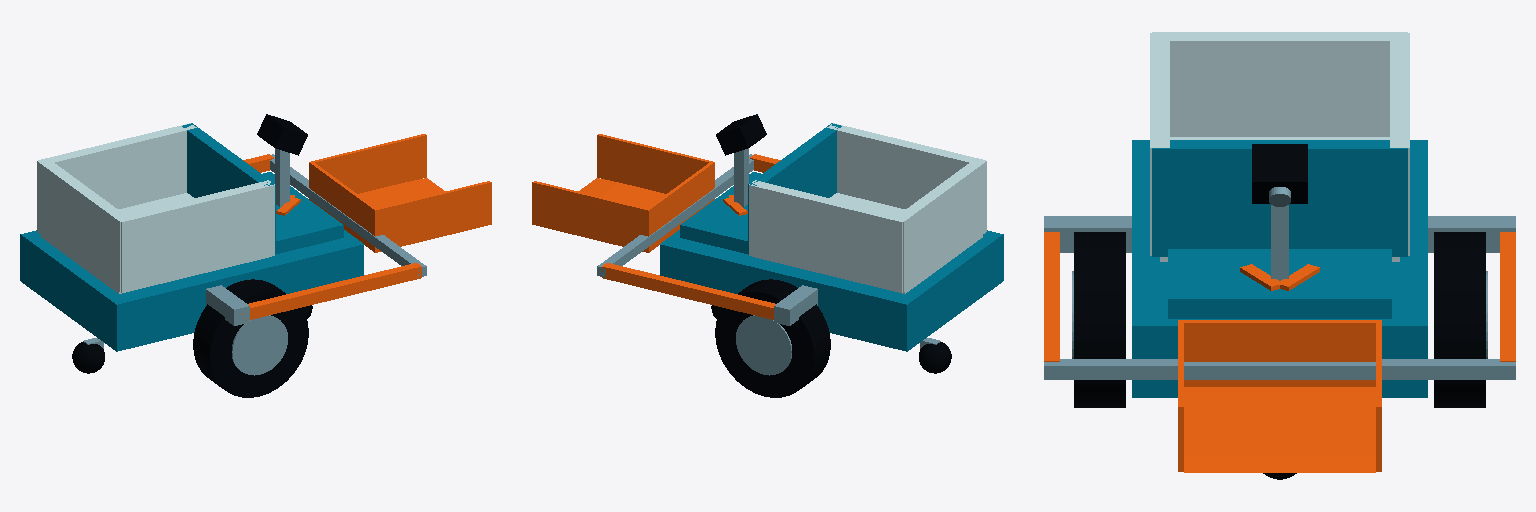
robot.urdf — collector_beveled_proposal:
<?xml version='1.0' encoding='utf-8'?>
<robot name="collector_beveled_proposal">
  <material name="body">
    <color rgba="0.03 0.53 0.65 1" />
  </material>
  <material name="basket">
    <color rgba="0.80 0.91 0.93 1" />
  </material>
  <material name="orange">
    <color rgba="1.0 0.44 0.10 1" />
  </material>
  <material name="rubber">
    <color rgba="0.045 0.06 0.08 1" />
  </material>
  <material name="hub">
    <color rgba="0.50 0.65 0.70 1" />
  </material>
  <link name="base_link">
    <inertial>
      <origin xyz="-0.025 0 0" />
      <mass value="7.0" />
      <inertia ixx="0.087" ixy="0" ixz="0" iyy="0.184" iyz="0" izz="0.256" />
    </inertial>
    <visual name="chassis">
      <origin xyz="0 0 -0.025" />
      <geometry>
        <box size="0.55 0.37 0.10" />
      </geometry>
      <material name="body" />
    </visual>
    <collision name="chassis_collision">
      <origin xyz="0 0 -0.025" />
      <geometry>
        <box size="0.55 0.37 0.10" />
      </geometry>
    </collision>
    <visual name="basket_floor">
      <origin xyz="-0.08 0 0.04" />
      <geometry>
        <box size="0.34 0.30 0.025" />
      </geometry>
      <material name="basket" />
    </visual>
    <collision name="basket_floor_collision">
      <origin xyz="-0.08 0 0.04" />
      <geometry>
        <box size="0.34 0.30 0.025" />
      </geometry>
    </collision>
    <visual name="basket_back">
      <origin xyz="-0.24 0 0.11" />
      <geometry>
        <box size="0.025 0.32 0.15" />
      </geometry>
      <material name="basket" />
    </visual>
    <collision name="basket_back_collision">
      <origin xyz="-0.24 0 0.11" />
      <geometry>
        <box size="0.025 0.32 0.15" />
      </geometry>
    </collision>
    <visual name="basket_left">
      <origin xyz="-0.08 0.15 0.11" />
      <geometry>
        <box size="0.34 0.025 0.15" />
      </geometry>
      <material name="basket" />
    </visual>
    <collision name="basket_left_collision">
      <origin xyz="-0.08 0.15 0.11" />
      <geometry>
        <box size="0.34 0.025 0.15" />
      </geometry>
    </collision>
    <visual name="basket_right">
      <origin xyz="-0.08 -0.15 0.11" />
      <geometry>
        <box size="0.34 0.025 0.15" />
      </geometry>
      <material name="basket" />
    </visual>
    <collision name="basket_right_collision">
      <origin xyz="-0.08 -0.15 0.11" />
      <geometry>
        <box size="0.34 0.025 0.15" />
      </geometry>
    </collision>
    <visual name="basket_front">
      <origin xyz="0.08 0 0.11" />
      <geometry>
        <box size="0.025 0.32 0.15" />
      </geometry>
      <material name="body" />
    </visual>
    <collision name="basket_front_collision">
      <origin xyz="0.08 0 0.11" />
      <geometry>
        <box size="0.025 0.32 0.15" />
      </geometry>
    </collision>
    <visual name="arm_pivot_shaft">
      <origin xyz="-0.06 0 -0.005" />
      <geometry>
        <box size="0.035 0.59 0.035" />
      </geometry>
      <material name="hub" />
    </visual>
    <visual name="front_deck">
      <origin xyz="0.18 0 0.035" />
      <geometry>
        <box size="0.15 0.28 0.035" />
      </geometry>
      <material name="body" />
    </visual>
    <visual name="camera_stand">
      <origin xyz="0.20 0 0.11" />
      <geometry>
        <box size="0.022 0.022 0.14" />
      </geometry>
      <material name="hub" />
    </visual>
    <visual name="onboard_camera">
      <origin xyz="0.20 0 0.20" rpy="0 0.48869219 0" />
      <geometry>
        <box size="0.06 0.07 0.045" />
      </geometry>
      <material name="rubber" />
    </visual>
    <visual name="camera_lens">
      <origin xyz="0.231 0 0.1835" rpy="0 2.05948852 0" />
      <geometry>
        <cylinder radius="0.014" length="0.012" />
      </geometry>
      <material name="hub" />
    </visual>
    <visual name="direction_arrow_left">
      <origin xyz="0.20 0.023 0.057" rpy="0 0 -0.60" />
      <geometry>
        <box size="0.07 0.018 0.006" />
      </geometry>
      <material name="orange" />
    </visual>
    <visual name="direction_arrow_right">
      <origin xyz="0.20 -0.023 0.057" rpy="0 0 0.60" />
      <geometry>
        <box size="0.07 0.018 0.006" />
      </geometry>
      <material name="orange" />
    </visual>
  </link>
  <link name="left_wheel">
    <inertial>
      <mass value="0.35" />
      <inertia ixx="0.00118" ixy="0" ixz="0" iyy="0.00212" iyz="0" izz="0.00118" />
    </inertial>
    <visual>
      <origin rpy="1.57079632679 0 0" />
      <geometry>
        <cylinder radius="0.11" length="0.065" />
      </geometry>
      <material name="rubber" />
    </visual>
    <visual>
      <origin xyz="0 0.034 0" rpy="1.57079632679 0 0" />
      <geometry>
        <cylinder radius="0.062" length="0.004" />
      </geometry>
      <material name="hub" />
    </visual>
    <collision>
      <origin rpy="1.57079632679 0 0" />
      <geometry>
        <cylinder radius="0.11" length="0.065" />
      </geometry>
    </collision>
  </link>
  <joint name="left_wheel_joint" type="continuous">
    <parent link="base_link" />
    <child link="left_wheel" />
    <origin xyz="0 0.225 -0.095" />
    <axis xyz="0 1 0" />
    <limit effort="12" velocity="14" />
    <dynamics damping="0.05" friction="0.01" />
  </joint>
  <link name="right_wheel">
    <inertial>
      <mass value="0.35" />
      <inertia ixx="0.00118" ixy="0" ixz="0" iyy="0.00212" iyz="0" izz="0.00118" />
    </inertial>
    <visual>
      <origin rpy="1.57079632679 0 0" />
      <geometry>
        <cylinder radius="0.11" length="0.065" />
      </geometry>
      <material name="rubber" />
    </visual>
    <visual>
      <origin xyz="0 -0.034 0" rpy="1.57079632679 0 0" />
      <geometry>
        <cylinder radius="0.062" length="0.004" />
      </geometry>
      <material name="hub" />
    </visual>
    <collision>
      <origin rpy="1.57079632679 0 0" />
      <geometry>
        <cylinder radius="0.11" length="0.065" />
      </geometry>
    </collision>
  </link>
  <joint name="right_wheel_joint" type="continuous">
    <parent link="base_link" />
    <child link="right_wheel" />
    <origin xyz="0 -0.225 -0.095" />
    <axis xyz="0 1 0" />
    <limit effort="12" velocity="14" />
    <dynamics damping="0.05" friction="0.01" />
  </joint>
  <link name="shovel_arm">
    <inertial>
      <origin xyz="0.20 0 0" />
      <mass value="0.55" />
      <inertia ixx="0.0447" ixy="0" ixz="0" iyy="0.00735" iyz="0" izz="0.052" />
    </inertial>
    <visual name="left_arm">
      <origin xyz="0.20 0.285 0" />
      <geometry>
        <box size="0.40 0.02 0.025" />
      </geometry>
      <material name="orange" />
    </visual>
    <collision name="left_arm_collision">
      <origin xyz="0.20 0.285 0" />
      <geometry>
        <box size="0.40 0.02 0.025" />
      </geometry>
    </collision>
    <visual name="right_arm">
      <origin xyz="0.20 -0.285 0" />
      <geometry>
        <box size="0.40 0.02 0.025" />
      </geometry>
      <material name="orange" />
    </visual>
    <collision name="right_arm_collision">
      <origin xyz="0.20 -0.285 0" />
      <geometry>
        <box size="0.40 0.02 0.025" />
      </geometry>
    </collision>
    <visual name="bucket_pivot_shaft">
      <origin xyz="0.40 0 0" />
      <geometry>
        <box size="0.02 0.59 0.02" />
      </geometry>
      <material name="hub" />
    </visual>
  </link>
  <joint name="shovel_lift_joint" type="revolute">
    <parent link="base_link" />
    <child link="shovel_arm" />
    <origin xyz="-0.06 0 -0.005" />
    <axis xyz="0 -1 0" />
    <limit lower="-0.48" upper="2.25" effort="14" velocity="1.5" />
    <dynamics damping="0.08" friction="0.01" />
  </joint>
  <link name="shovel_bucket">
    <inertial>
      <origin xyz="0.12 0 0.005" />
      <mass value="0.30" />
      <inertia ixx="0.0020" ixy="0" ixz="0" iyy="0.0020" iyz="0" izz="0.0032" />
    </inertial>
    <visual name="shovel_floor">
      <origin xyz="0 0 0" />
      <geometry>
        <mesh filename="collector_beveled_floor.obj" scale="1 1 1" />
      </geometry>
      <material name="orange" />
    </visual>
    <collision name="shovel_floor_collision">
      <origin xyz="0 0 0" />
      <geometry>
        <mesh filename="collector_beveled_floor.obj" scale="1 1 1" />
      </geometry>
    </collision>
    <visual name="shovel_back">
      <origin xyz="-0.004 0 0.020" />
      <geometry>
        <box size="0.008 0.256 0.09" />
      </geometry>
      <material name="orange" />
    </visual>
    <collision name="shovel_back_collision">
      <origin xyz="-0.004 0 0.020" />
      <geometry>
        <box size="0.008 0.256 0.09" />
      </geometry>
    </collision>
    <visual name="shovel_left">
      <origin xyz="0.125 0.124 0.020" />
      <geometry>
        <box size="0.25 0.008 0.09" />
      </geometry>
      <material name="orange" />
    </visual>
    <collision name="shovel_left_collision">
      <origin xyz="0.125 0.124 0.020" />
      <geometry>
        <box size="0.25 0.008 0.09" />
      </geometry>
    </collision>
    <visual name="shovel_right">
      <origin xyz="0.125 -0.124 0.020" />
      <geometry>
        <box size="0.25 0.008 0.09" />
      </geometry>
      <material name="orange" />
    </visual>
    <collision name="shovel_right_collision">
      <origin xyz="0.125 -0.124 0.020" />
      <geometry>
        <box size="0.25 0.008 0.09" />
      </geometry>
    </collision>
  </link>
  <joint name="shovel_tilt_joint" type="revolute">
    <parent link="shovel_arm" />
    <child link="shovel_bucket" />
    <origin xyz="0.40 0 0" />
    <axis xyz="0 -1 0" />
    <limit lower="-3.10" upper="0.85" effort="8" velocity="2.0" />
    <dynamics damping="0.04" friction="0.005" />
  </joint>
  <link name="front_caster_fork">
    <inertial>
      <origin xyz="-0.01 0 -0.015" />
      <mass value="0.02" />
      <inertia ixx="1e-05" ixy="0" ixz="0" iyy="1e-05" iyz="0" izz="1e-05" />
    </inertial>
    <visual>
      <origin xyz="-0.01 0 -0.015" />
      <geometry>
        <box size="0.035 0.018 0.035" />
      </geometry>
      <material name="hub" />
    </visual>
  </link>
  <joint name="front_caster_yaw" type="continuous">
    <parent link="base_link" />
    <child link="front_caster_fork" />
    <origin xyz="0.25 0 -0.143" />
    <axis xyz="0 0 1" />
    <limit effort="0.2" velocity="100" />
    <dynamics damping="0.0001" friction="0" />
  </joint>
  <link name="front_caster_wheel">
    <inertial>
      <origin xyz="0 0 0" />
      <mass value="0.04" />
      <inertia ixx="1.64e-05" ixy="0" ixz="0" iyy="1.64e-05" iyz="0" izz="1.64e-05" />
    </inertial>
    <visual>
      <geometry>
        <sphere radius="0.032" />
      </geometry>
      <material name="rubber" />
    </visual>
    <collision>
      <geometry>
        <sphere radius="0.032" />
      </geometry>
    </collision>
  </link>
  <joint name="front_caster_roll" type="continuous">
    <parent link="front_caster_fork" />
    <child link="front_caster_wheel" />
    <origin xyz="-0.02 0 -0.030" />
    <axis xyz="0 1 0" />
    <limit effort="0.2" velocity="100" />
    <dynamics damping="0.0001" friction="0" />
  </joint>
  <link name="rear_caster_fork">
    <inertial>
      <origin xyz="-0.01 0 -0.015" />
      <mass value="0.02" />
      <inertia ixx="1e-05" ixy="0" ixz="0" iyy="1e-05" iyz="0" izz="1e-05" />
    </inertial>
    <visual>
      <origin xyz="-0.01 0 -0.015" />
      <geometry>
        <box size="0.035 0.018 0.035" />
      </geometry>
      <material name="hub" />
    </visual>
  </link>
  <joint name="rear_caster_yaw" type="continuous">
    <parent link="base_link" />
    <child link="rear_caster_fork" />
    <origin xyz="-0.21 0 -0.141" />
    <axis xyz="0 0 1" />
    <limit effort="0.2" velocity="100" />
    <dynamics damping="0.0001" friction="0" />
  </joint>
  <link name="rear_caster_wheel">
    <inertial>
      <origin xyz="0 0 0" />
      <mass value="0.04" />
      <inertia ixx="1.64e-05" ixy="0" ixz="0" iyy="1.64e-05" iyz="0" izz="1.64e-05" />
    </inertial>
    <visual>
      <geometry>
        <sphere radius="0.032" />
      </geometry>
      <material name="rubber" />
    </visual>
    <collision>
      <geometry>
        <sphere radius="0.032" />
      </geometry>
    </collision>
  </link>
  <joint name="rear_caster_roll" type="continuous">
    <parent link="rear_caster_fork" />
    <child link="rear_caster_wheel" />
    <origin xyz="-0.02 0 -0.030" />
    <axis xyz="0 1 0" />
    <limit effort="0.2" velocity="100" />
    <dynamics damping="0.0001" friction="0" />
  </joint>
</robot>

--- What the picture shows (computed from the rendered views, not written in the file) ---
The picture shows the robot from 3 angles, left to right: view 1: azimuth 30°, elevation 25°; view 2: azimuth 150°, elevation 25°; view 3: azimuth 270°, elevation 25°; orthographic projection.
Model collector_beveled_proposal with 9 links and 8 joints (2 revolute, 6 continuous), rooted at base_link, posed all joints at 0.
Links seen in each view (by area): view 1: base_link, shovel_bucket, right_wheel, shovel_arm, rear_caster_wheel; view 2: base_link, shovel_bucket, left_wheel, shovel_arm, rear_caster_wheel; view 3: base_link, shovel_bucket, shovel_arm, left_wheel, right_wheel.
Link boxes in pixels (x1,y1,x2,y2): base_link: (20,114,363,351); shovel_bucket: (309,134,491,252); right_wheel: (193,279,308,397); shovel_arm: (242,154,426,320); rear_caster_wheel: (72,342,104,373); base_link: (660,114,1003,351); shovel_bucket: (532,134,714,252); left_wheel: (715,279,830,397); shovel_arm: (597,154,780,319); rear_caster_wheel: (919,342,951,373); base_link: (1044,32,1515,397); shovel_bucket: (1178,320,1381,472); shovel_arm: (1044,232,1515,379); left_wheel: (1434,232,1487,407); right_wheel: (1072,232,1125,407).
Bounding box of the posed robot: 0.865 × 0.59 × 0.439 m (x, y, z).
1 mesh visuals loaded from 1 distinct referenced files (1 OBJ).
